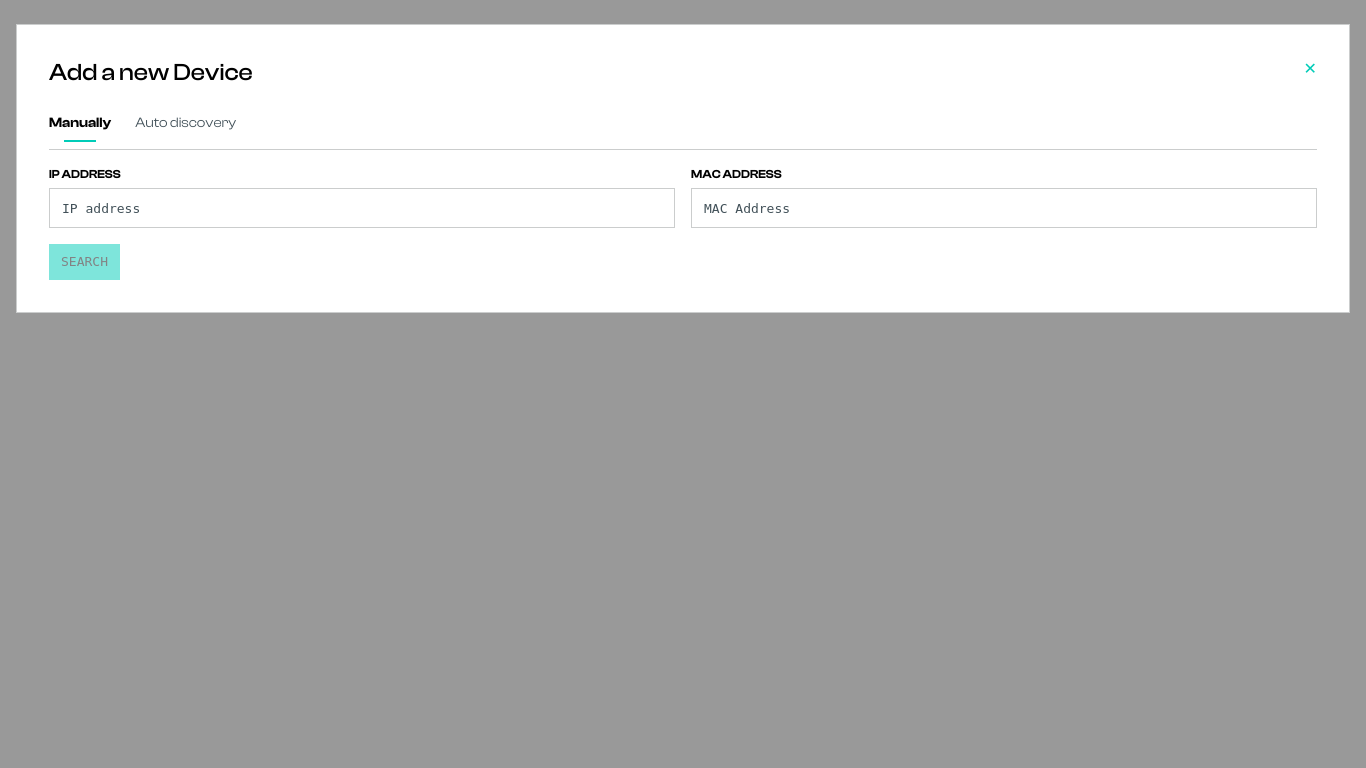
Test: RegisterDevicesModal › shows 'No device found' when manual search returns empty results
Expected: the dialog is shown, x1=16 y1=24 x2=1350 y2=313
Type "192.168.0.10" into the field labelled "IP Address" at (362, 208), box x1=49 y1=188 x2=675 y2=228
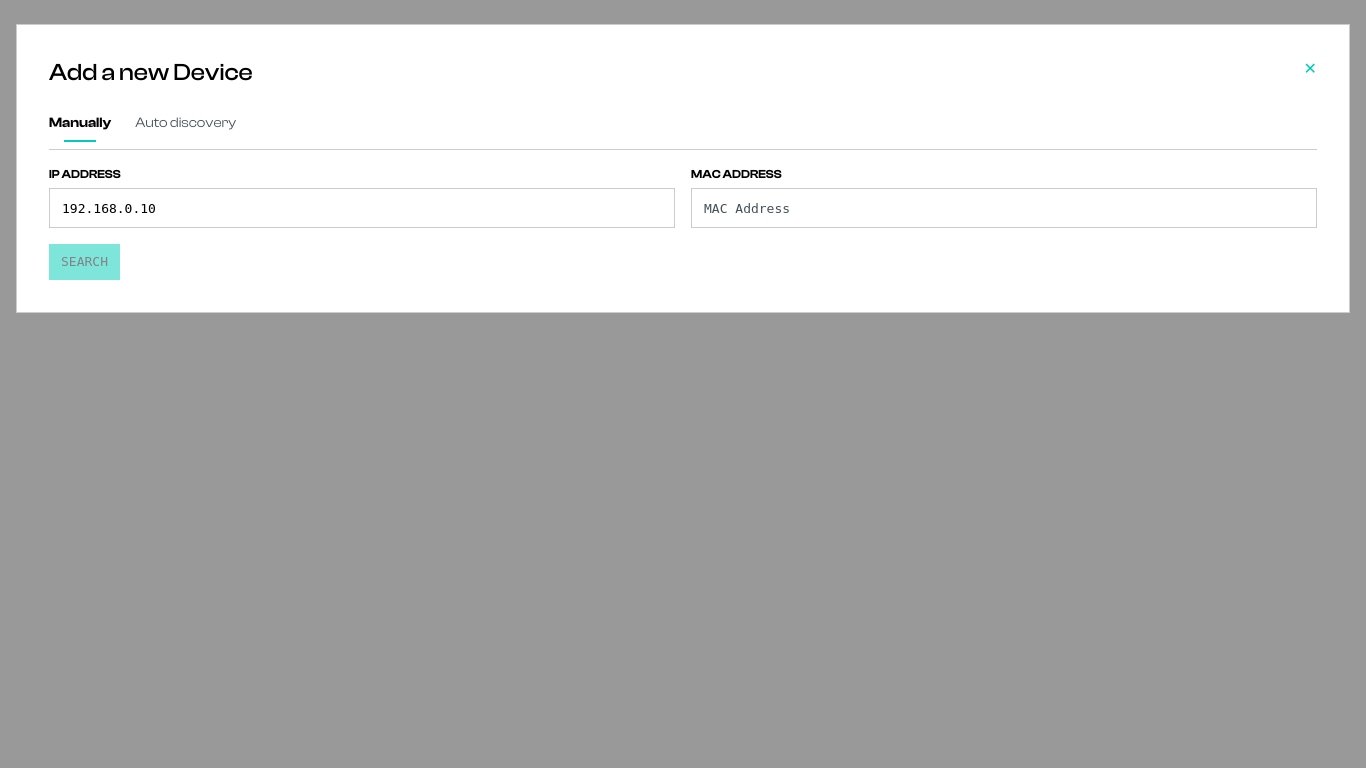
Type "aa:bb:cc:dd:ee:ff" into the field labelled "MAC Address" at (1004, 208), box x1=691 y1=188 x2=1317 y2=228
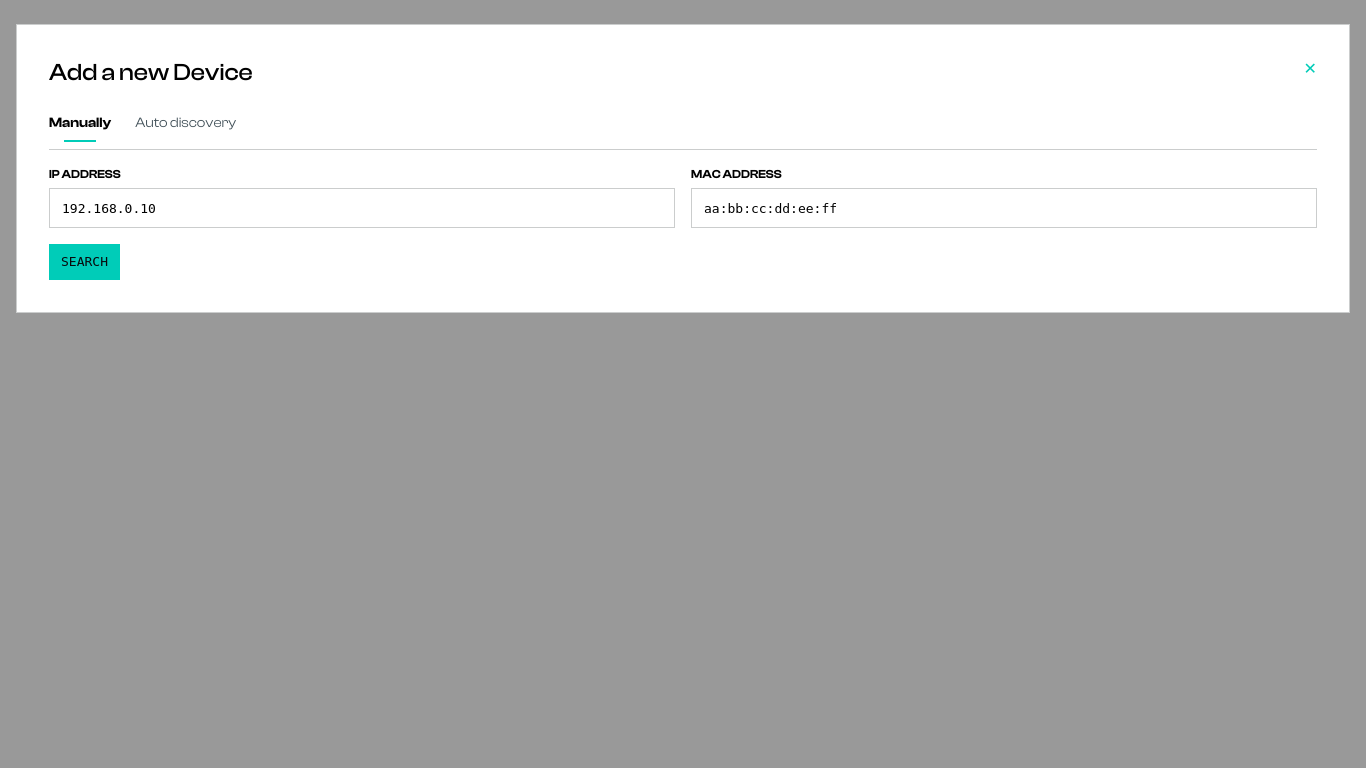
Click the button "Search" at (84, 262), box x1=49 y1=244 x2=120 y2=280
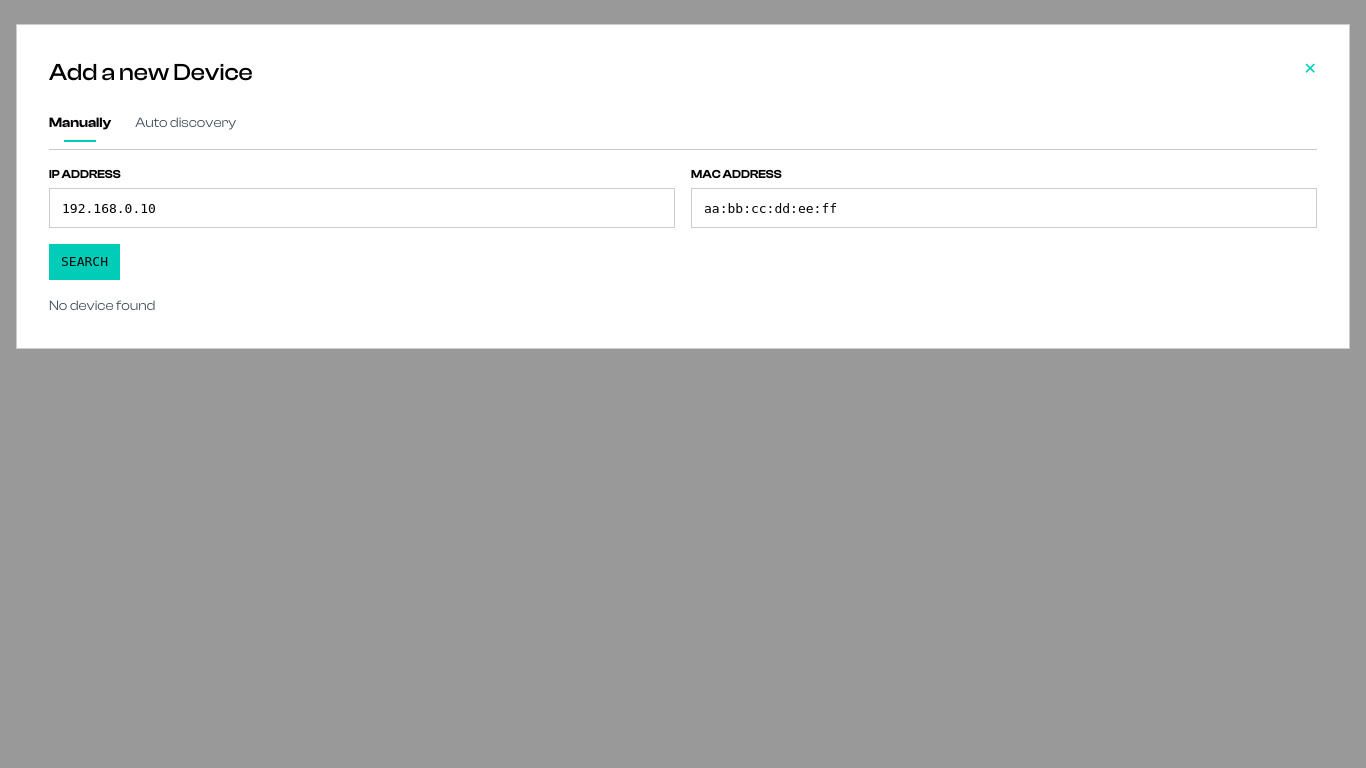
Result: the text "No device found" is shown at x1=49 y1=298 x2=155 y2=314
